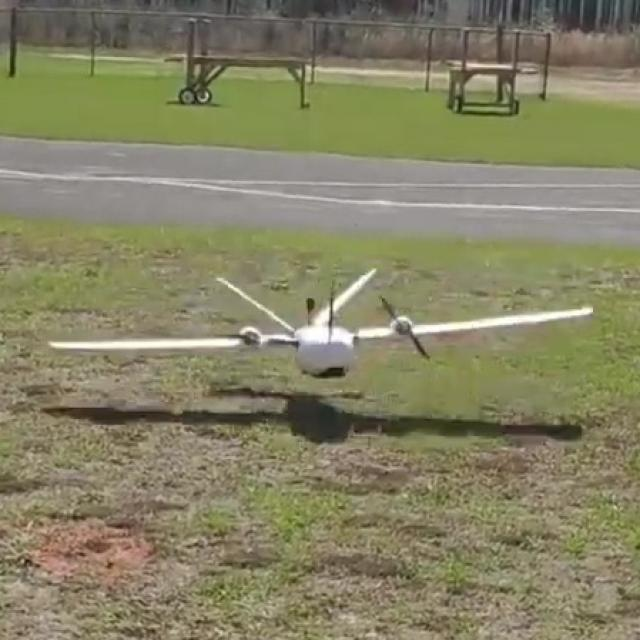iha: (43, 294, 597, 346)
